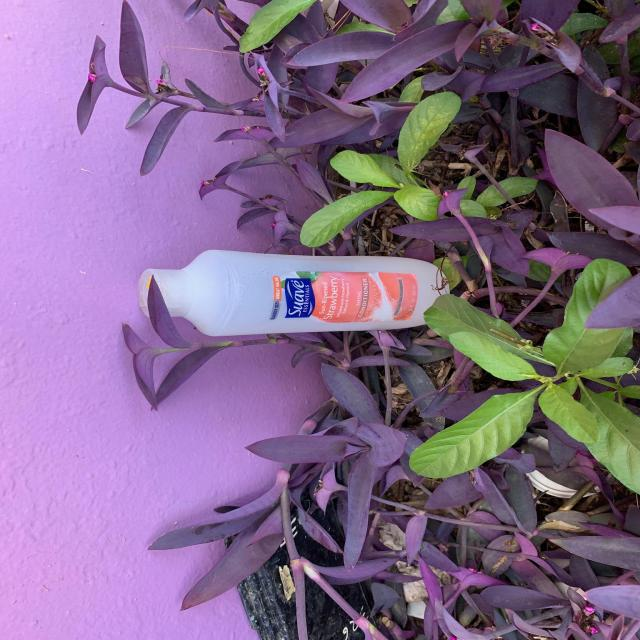litter: (137, 249, 451, 336)
